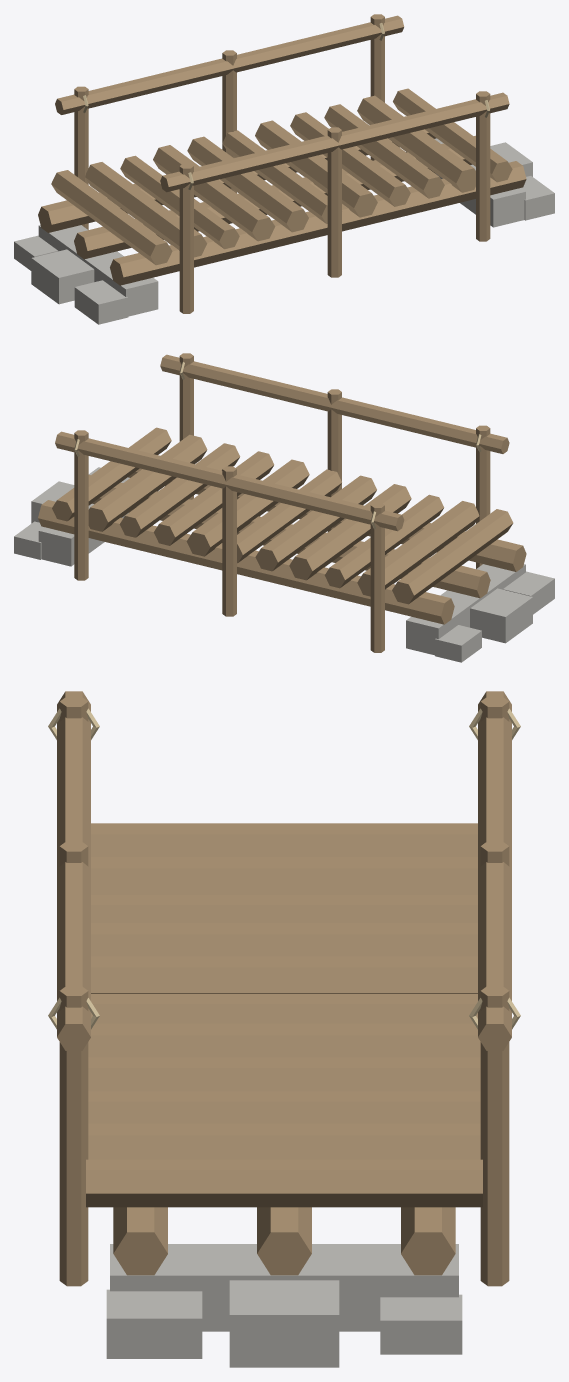
The model's file is 40-Infraestructura_puente_troncos.glb.
3 renders of one model, top to bottom at view 1: azimuth 30°, elevation 25°; view 2: azimuth 150°, elevation 25°; view 3: azimuth 270°, elevation 25°, orthographic. The views are drawn at different scales.
Parts seen in each view (by area): view 1: SM_Puente_Troncos; view 2: SM_Puente_Troncos; view 3: SM_Puente_Troncos.
Part boxes in pixels (x1,y1,x2,y2): SM_Puente_Troncos: (14,14,554,324); SM_Puente_Troncos: (14,353,554,662); SM_Puente_Troncos: (48,691,520,1367).
Bounding box in the file's own units: 3.2 × 0.935 × 1.38.
